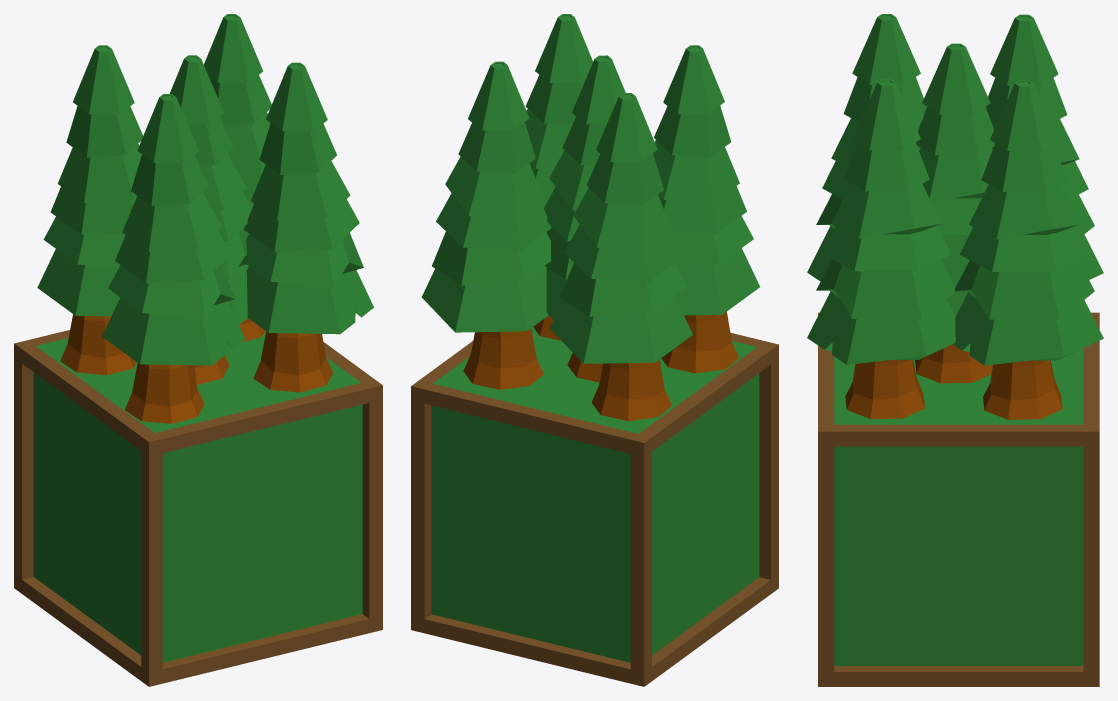
Rendered from Tree_Block.fbx.
3 renders of one model, left to right at view 1: azimuth 30°, elevation 25°; view 2: azimuth 150°, elevation 25°; view 3: azimuth 270°, elevation 25°, orthographic. The views are drawn at different scales.
Visible parts, largest first — view 1: Cylinder.002; view 2: Cylinder.002; view 3: Cylinder.002.
Boxes of the visible parts, x1,y1,x2,y2 form: Cylinder.002: [14, 14, 382, 686]; Cylinder.002: [411, 14, 778, 686]; Cylinder.002: [807, 14, 1103, 686].
Bounding box in the file's own units: 206 × 452 × 211.
